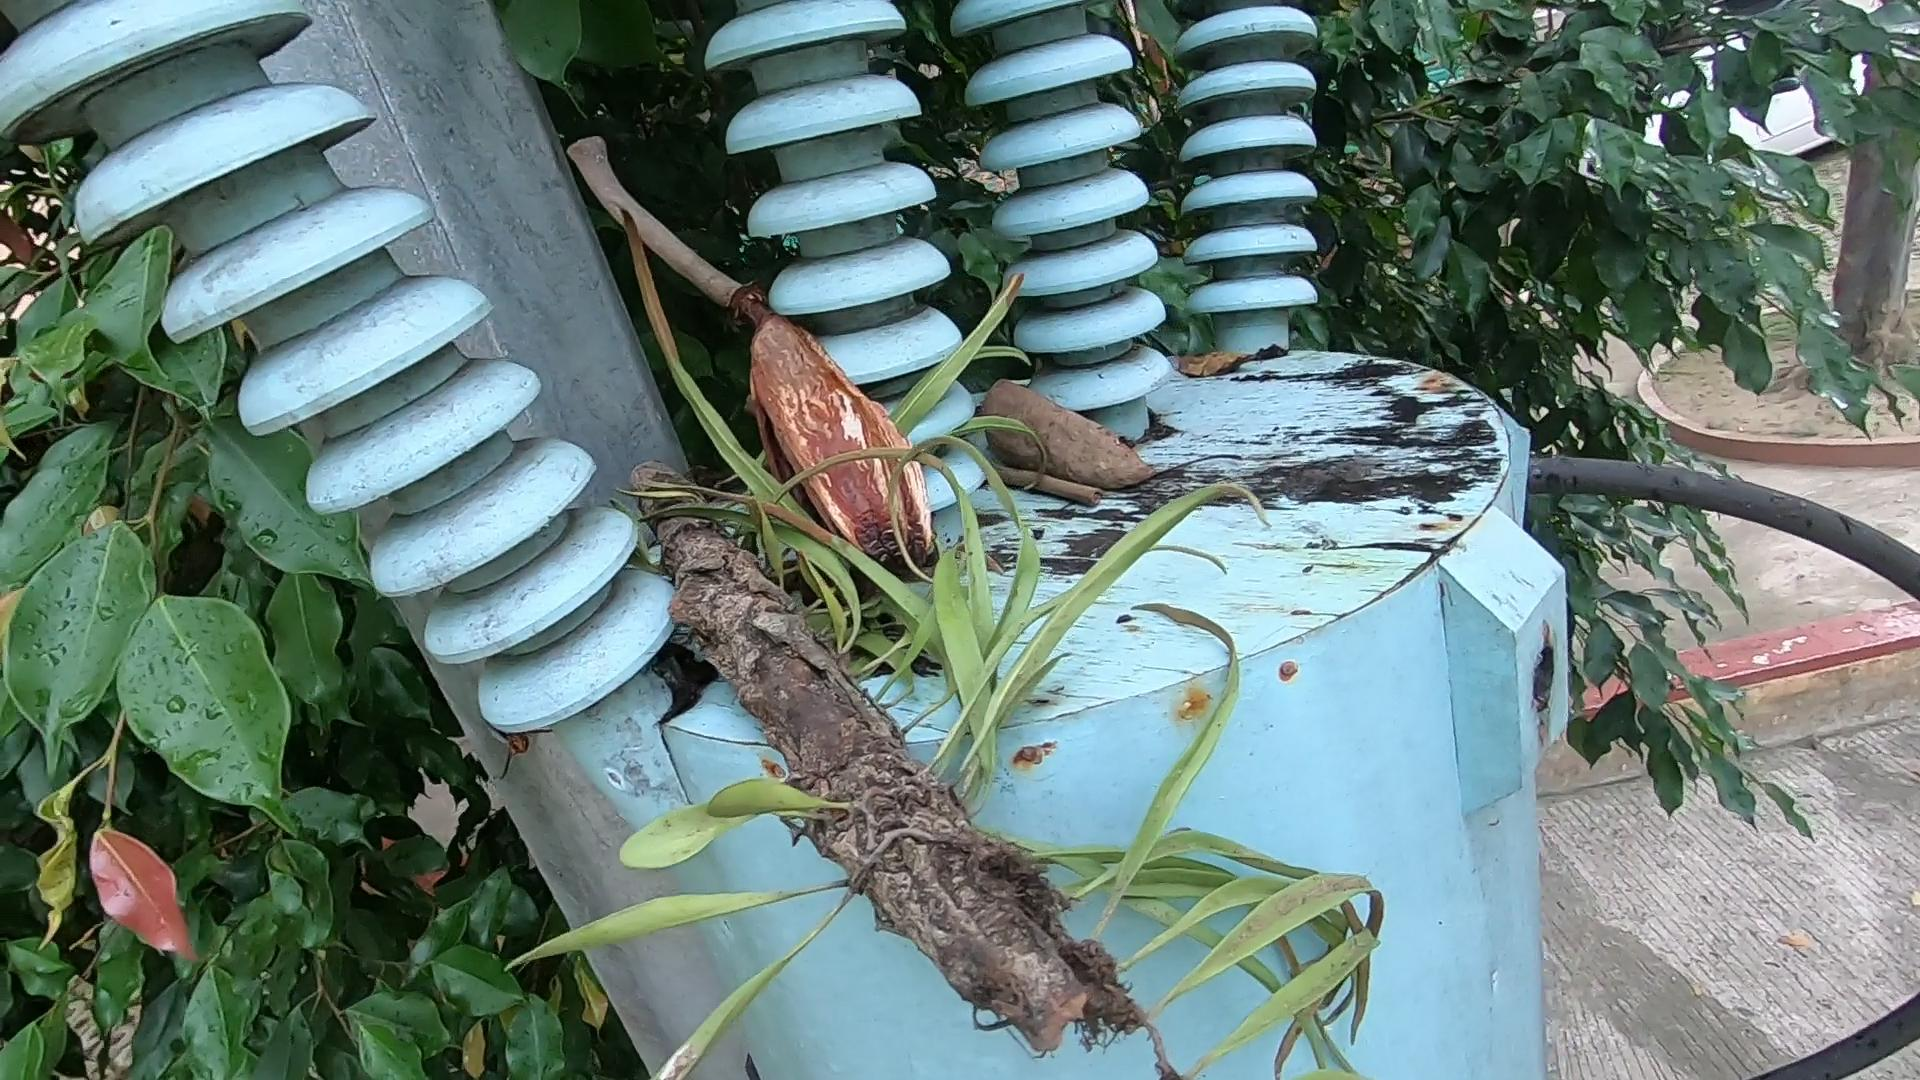branch with leaves: (626, 455, 1412, 1080)
leaf: (1160, 348, 1298, 392)
mahogany fruit: (737, 316, 934, 646), (942, 357, 1170, 546)
tree branch: (564, 128, 742, 309), (972, 448, 1091, 535)
